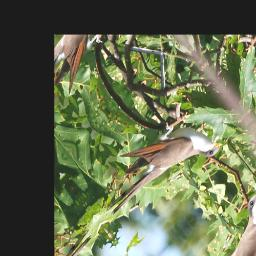Cuckoo: (88, 92, 224, 244)
